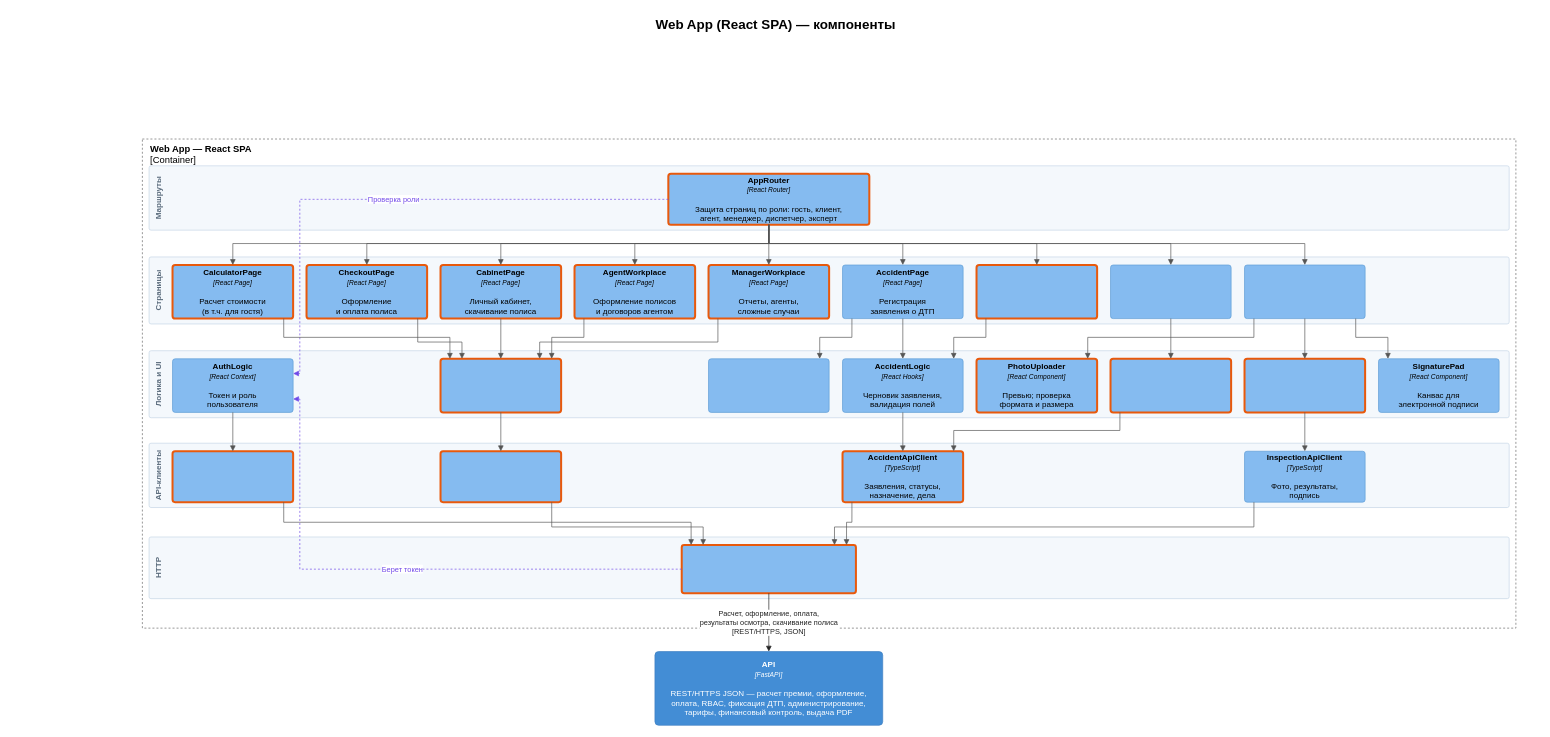
Some shapes in this 1550 by 737 pixel diagram are drawn without their labels. The centre of each missing label's shape, as x and y in pixels:
AuthApiClient [TypeScript] Вход по коду, обновление токена: point 232,476
DispatcherPage [React Page] Заявление по звонку, назначение эксперта: point 1036,291
ExpertCasesLogic [React Hooks] Список дел, фильтры, статусы: point 1170,385
ExpertDashboard [React Page] Назначенные эксперту дела: point 1170,291
FormWizard [React Component] Пошаговая форма ввода данных ДТП: point 768,385
HttpClient [axios] Токен в каждом запросе, 401/403, повторы: point 768,569
InspectionLogic [React Hooks] Сбор результатов; оценка ущерба по категории: point 1304,385
InspectionPage [React Page] Осмотр, фото, подписание акта: point 1304,291
PolicyApiClient [TypeScript] Расчет, оформление, оплата, PDF полиса: point 500,476
PolicyLogic [React Hooks] Расчет, оформление, полисы и отчеты: point 500,385
